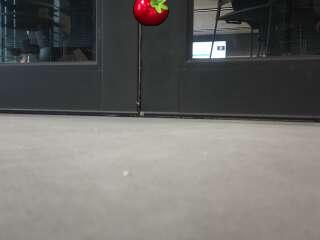Tomato: (133, 1, 171, 28)
